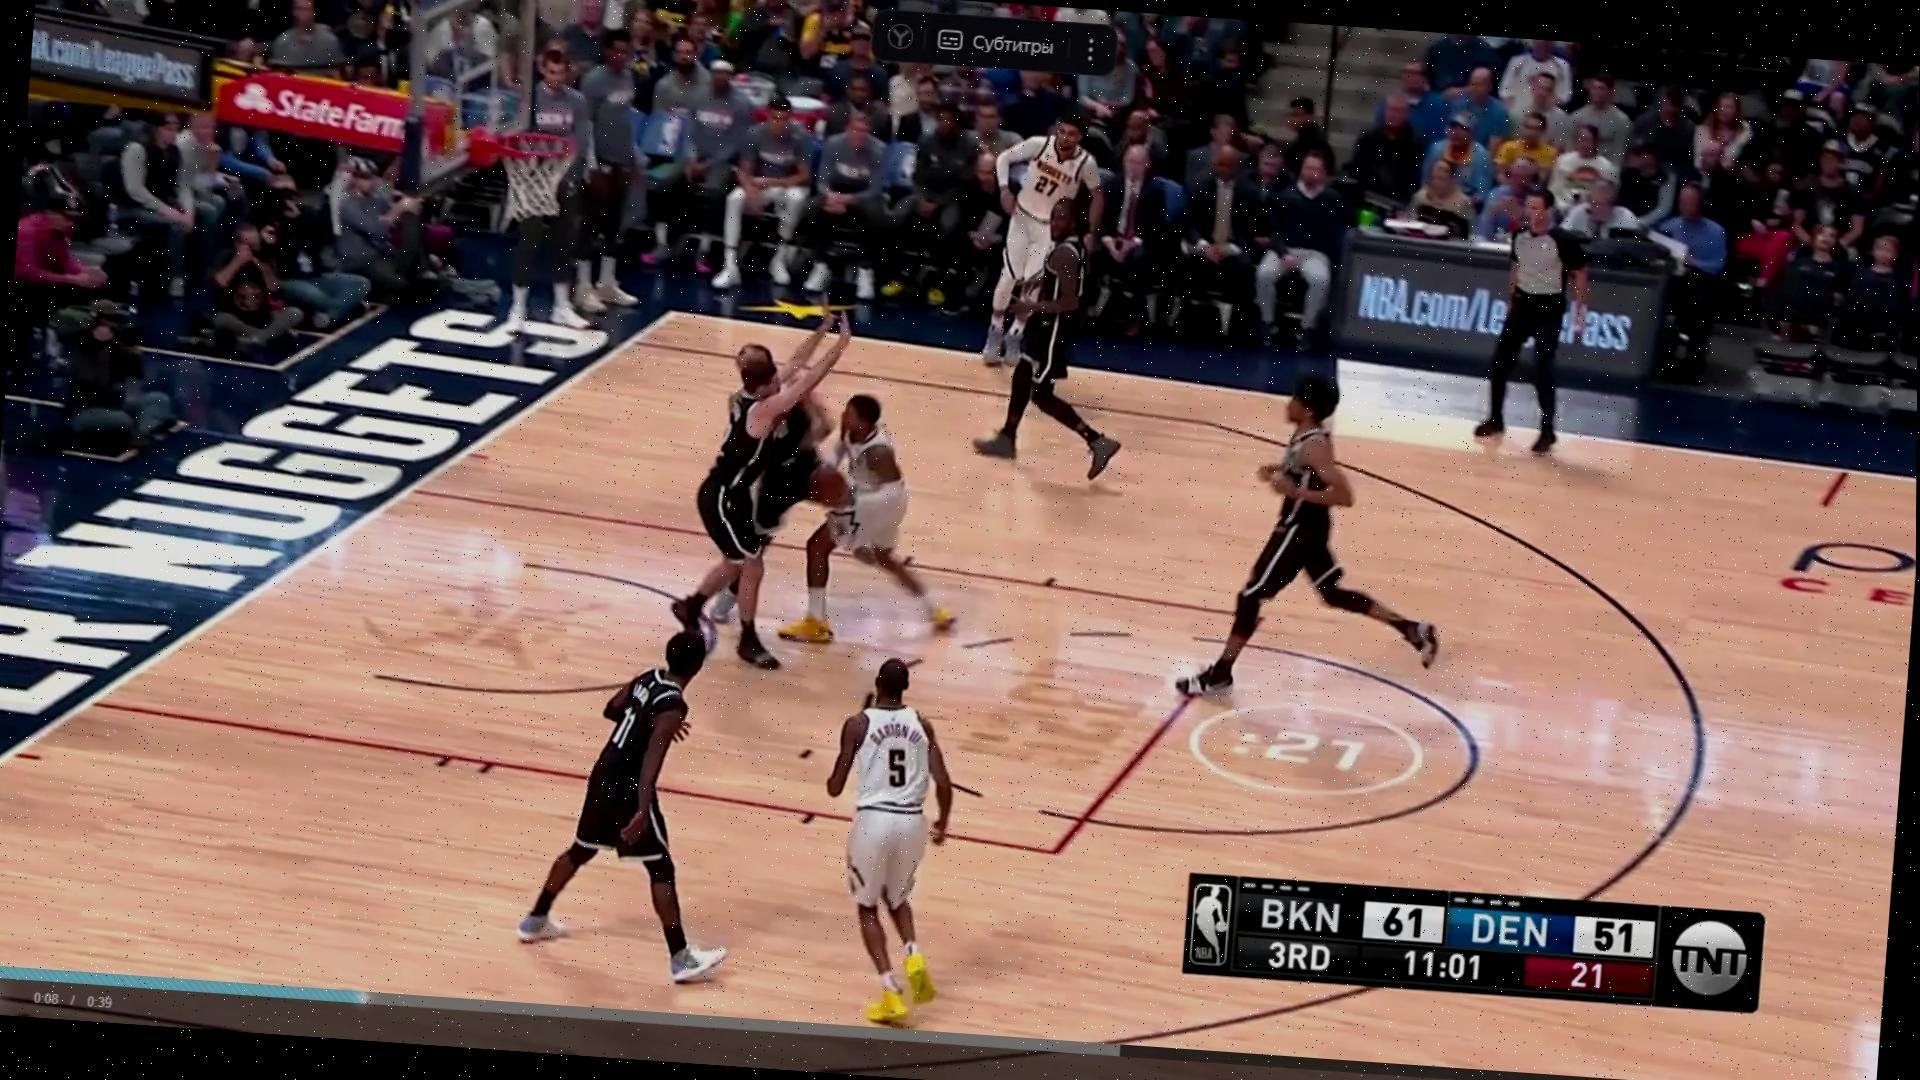foul: (712, 324, 965, 650)
